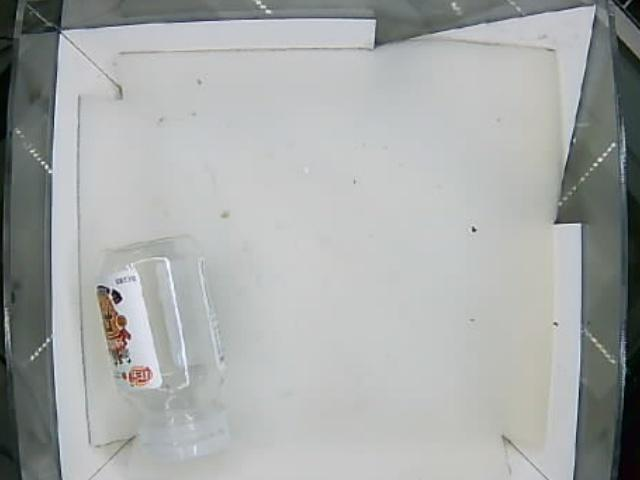Bottle: (94, 230, 234, 462)
